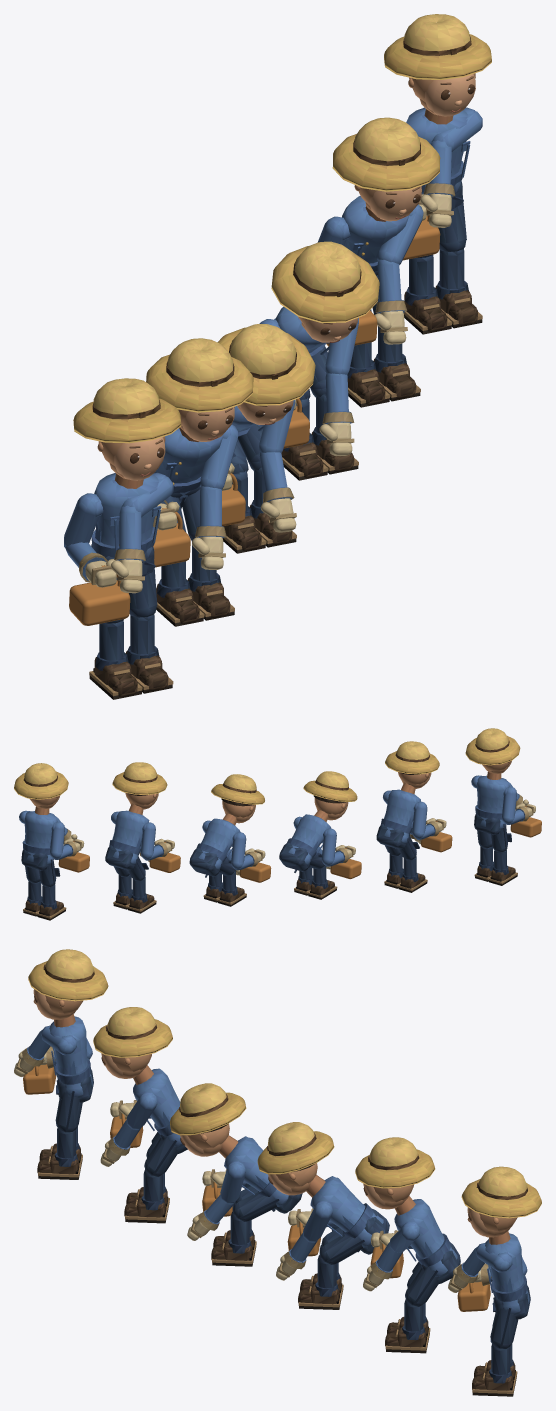
The model's file is audit-hf-player-farmhand-harvest-tq.glb.
3 views of the same model, one above another, from view 1: azimuth 30°, elevation 25°; view 2: azimuth 150°, elevation 25°; view 3: azimuth 270°, elevation 25° (orthographic). The views are drawn at different scales.
Parts seen in each view (by area): view 1: strawHat (×6), rightShin (×6), denimJacketTorso (×5), leftShin (×6), head (×6), leftHandMesh (×6), leftUpperArm (×6), harvestBasket (×4), leftLowerArm (×5), leftThigh (×2), rightUpperArm, rightHandMesh; view 2: denimJacketTorso (×6), strawHat (×6), rightShin (×6), trouserHips (×6), rightUpperArm (×6), harvestBasket (×6), leftShin (×6), head (×4), rightThigh (×4); view 3: strawHat (×6), denimJacketTorso (×6), leftShin (×6), head (×6), leftThigh (×6), leftUpperArm (×6), harvestBasket (×2).
Part boxes in pixels (x1=…): strawHat (×6): x1=73, y1=14, x2=491, y2=443; rightShin (×6): x1=89, y1=254, x2=451, y2=699; denimJacketTorso (×5): x1=91, y1=107, x2=470, y2=557; leftShin (×6): x1=125, y1=248, x2=482, y2=693; head (×6): x1=97, y1=73, x2=475, y2=480; leftHandMesh (×6): x1=111, y1=183, x2=455, y2=593; leftUpperArm (×6): x1=121, y1=107, x2=482, y2=516; harvestBasket (×4): x1=69, y1=215, x2=440, y2=625; leftLowerArm (×5): x1=116, y1=259, x2=405, y2=561; leftThigh (×2): x1=129, y1=193, x2=466, y2=617; rightUpperArm: x1=64, y1=493, x2=103, y2=547; rightHandMesh: x1=79, y1=552, x2=116, y2=587; denimJacketTorso (×6): x1=22, y1=772, x2=509, y2=870; strawHat (×6): x1=14, y1=728, x2=520, y2=804; rightShin (×6): x1=37, y1=850, x2=517, y2=920; trouserHips (×6): x1=21, y1=813, x2=506, y2=877; rightUpperArm (×6): x1=50, y1=786, x2=516, y2=868; harvestBasket (×6): x1=58, y1=817, x2=541, y2=882; leftShin (×6): x1=23, y1=846, x2=493, y2=916; head (×4): x1=125, y1=772, x2=431, y2=823; rightThigh (×4): x1=39, y1=824, x2=511, y2=886; strawHat (×6): x1=28, y1=949, x2=541, y2=1218; denimJacketTorso (×6): x1=49, y1=1014, x2=529, y2=1314; leftShin (×6): x1=37, y1=1128, x2=515, y2=1396; head (×6): x1=33, y1=989, x2=517, y2=1237; leftThigh (×6): x1=55, y1=1091, x2=518, y2=1348; leftUpperArm (×6): x1=41, y1=1025, x2=512, y2=1272; harvestBasket (×2): x1=23, y1=1064, x2=490, y2=1311.
Size of what is drawn, in the model's own units: 6.15 by 2.4 by 5.31.
